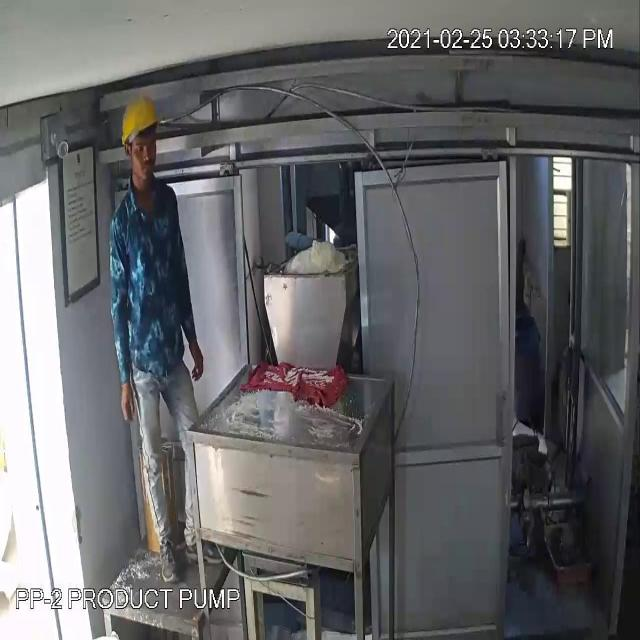helmet: (118, 91, 164, 153)
